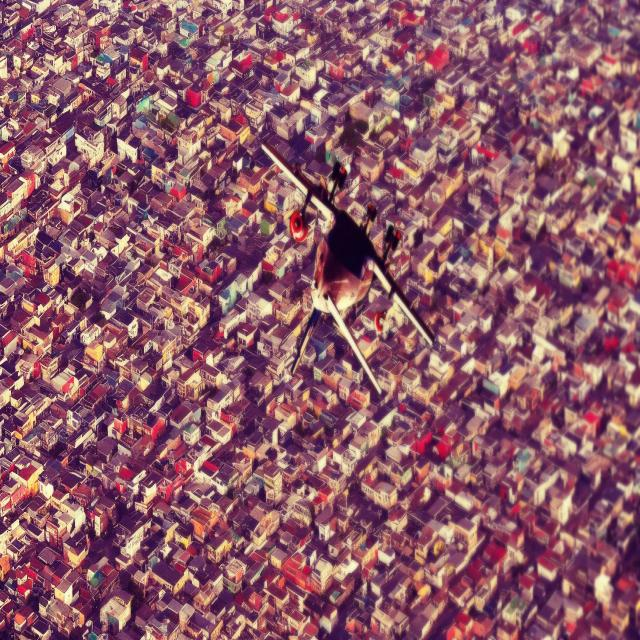airplane: (260, 141, 435, 397)
